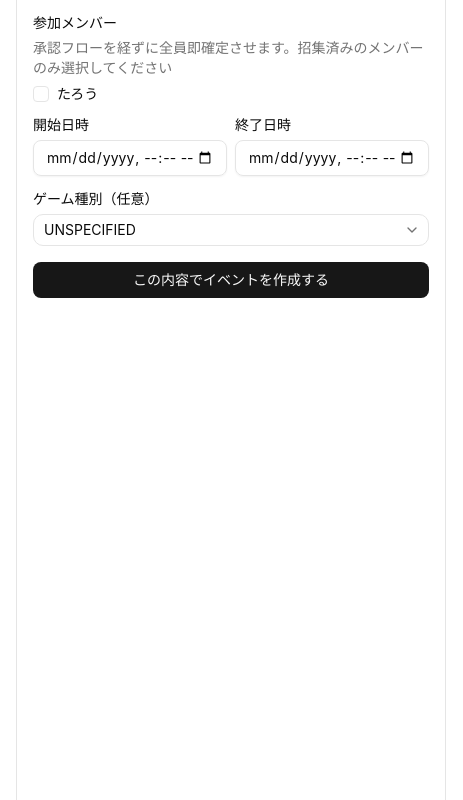
Test case: ManualCandidateCreatePage › メンバーを1人も選択せず送信すると検証エラーを出す
Expected: the checkbox "たろう" is shown, [57,87,98,101]
Click the button "この内容でイベントを作成する".
click(231, 280)  # box [33,262,429,298]
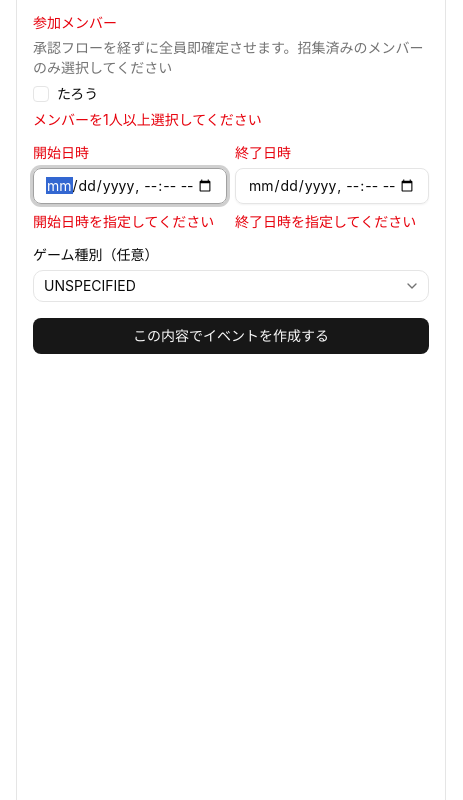
Result: the text "メンバーを1人以上選択してください" is shown at [33,111,262,128]
